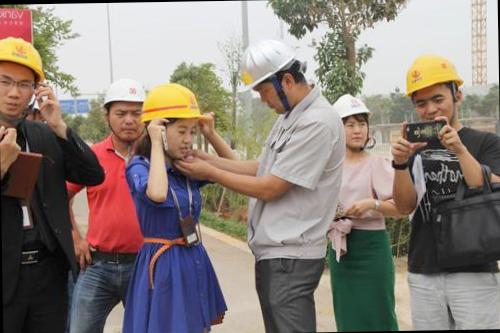helmet: (232, 37, 301, 104), (138, 79, 206, 130), (403, 52, 466, 98), (0, 38, 49, 91), (93, 72, 147, 105), (331, 88, 370, 126)
no_vest: (242, 104, 337, 266), (400, 120, 490, 254), (0, 111, 75, 264), (84, 154, 148, 255), (138, 158, 205, 247), (328, 146, 394, 236)
person: (240, 36, 342, 333), (399, 50, 494, 330), (122, 80, 223, 333), (65, 72, 161, 333), (0, 37, 78, 333), (325, 91, 394, 332)
